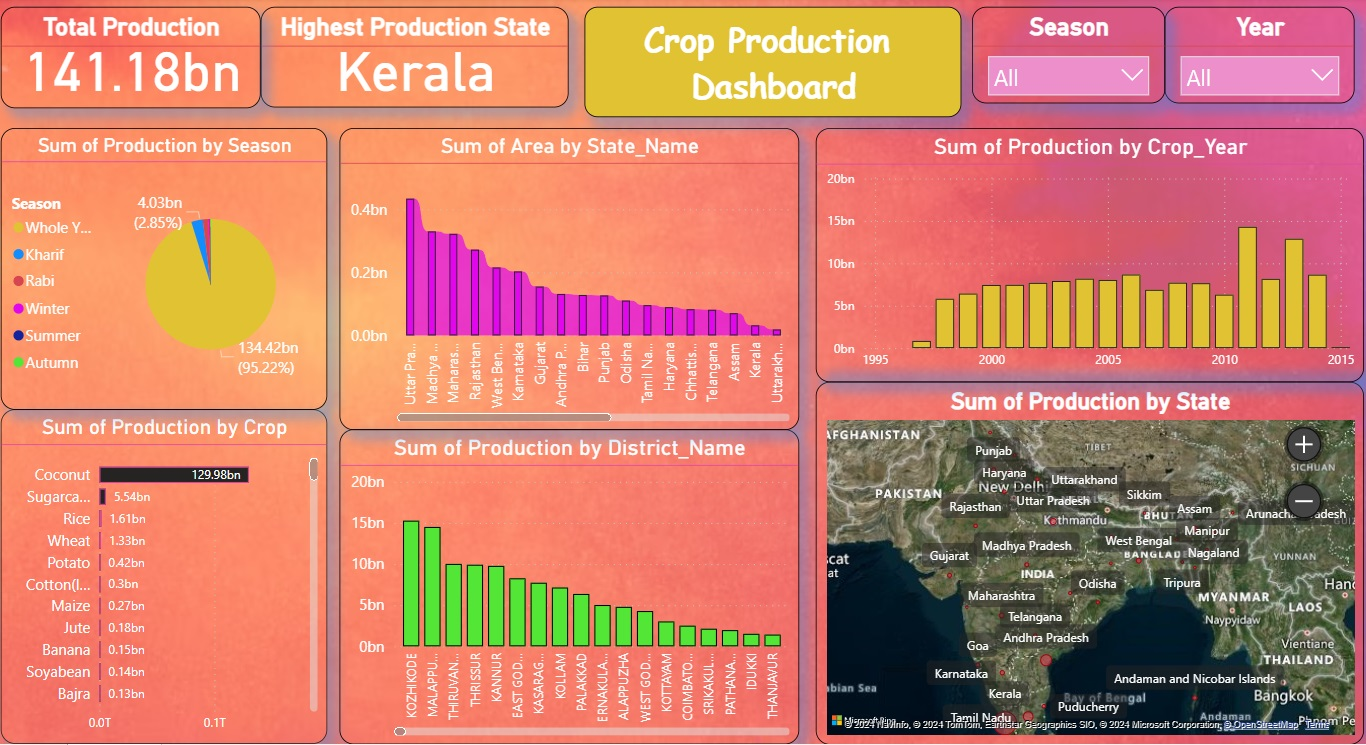

Layout of this report page (visuals, bound fields, positions):
{"tool":"powerbi","page":{"name":"Page 1","canvas":[1369,735],"ordinal":0},"visuals":[{"type":"map","title":"Sum of Production by State","fields":{"Category":["Crop Production data.State_Name"],"Size":["Sum(Crop Production data.Production)"]},"box":[811.2,377.5,540,357.5],"z":0},{"type":"slicer","title":"Year","fields":{"Values":["Crop Production data.Crop_Year"]},"box":[1155,8.8,187.5,95],"z":1000},{"type":"slicer","title":"Season","fields":{"Values":["Crop Production data.Season"]},"box":[965,8.8,190,95],"z":2000},{"type":"clusteredBarChart","fields":{"Category":["Crop Production data.Crop"],"Y":["Sum(Crop Production data.Production)"]},"box":[8.6,405.1,321.3,329.9],"z":3000},{"type":"clusteredColumnChart","fields":{"Category":["Crop Production data.District_Name"],"Y":["Sum(Crop Production data.Production)"]},"box":[342.5,425,452.5,310],"z":4000},{"type":"ribbonChart","fields":{"Category":["Crop Production data.State_Name"],"Y":["Sum(Crop Production data.Area)"]},"box":[342.5,127.5,452.5,297.5],"z":5000},{"type":"clusteredColumnChart","fields":{"Y":["Sum(Crop Production data.Production)"],"Category":["Crop Production data.Crop_Year"]},"box":[811.2,127.5,540,250],"z":6000},{"type":"pieChart","fields":{"Category":["Crop Production data.Season"],"Y":["Sum(Crop Production data.Production)"]},"box":[8.8,127.5,321.2,277.5],"z":7000},{"type":"card","title":"Highest Production State","fields":{"Values":["Min(Crop Production data.State_Name)"]},"box":[265,8.8,303.8,100],"z":8000},{"type":"card","title":"Total Production ","fields":{"Values":["Sum(Crop Production data.Production)"]},"box":[8.8,8.8,256.2,100],"z":9000},{"type":"textbox","box":[583.8,8.8,371.2,108.8],"z":10000}]}

Visuals, with their boxes in screenshot pixels (x1, y1, x2, y2), scaled from the page's 1369x735 canvas onto the 1366x745 screenshot:
"Sum of Production by State" map: (809, 383, 1348, 744)
"Year" slicer: (1152, 9, 1340, 105)
"Season" slicer: (963, 9, 1152, 105)
clusteredBarChart - Crop Production data.Crop x Sum(Crop Production data.Production): (9, 411, 329, 744)
clusteredColumnChart - Crop Production data.District_Name x Sum(Crop Production data.Production): (342, 431, 793, 744)
ribbonChart - Crop Production data.State_Name x Sum(Crop Production data.Area): (342, 129, 793, 431)
clusteredColumnChart - Sum(Crop Production data.Production) x Crop Production data.Crop_Year: (809, 129, 1348, 383)
pieChart - Crop Production data.Season x Sum(Crop Production data.Production): (9, 129, 329, 411)
"Highest Production State" card: (264, 9, 568, 110)
"Total Production " card: (9, 9, 264, 110)
textbox: (583, 9, 953, 119)
